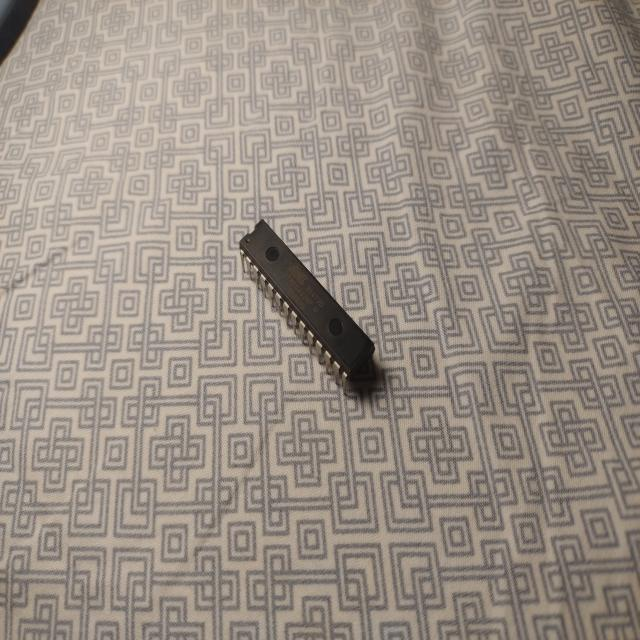atmega: (236, 216, 378, 391)
